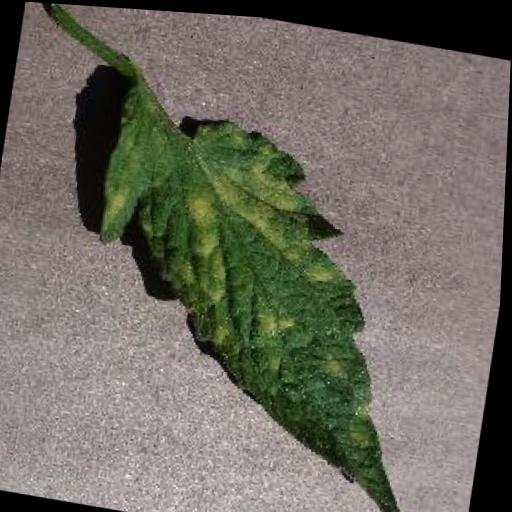Leaf Mold: (63, 67, 472, 512)
